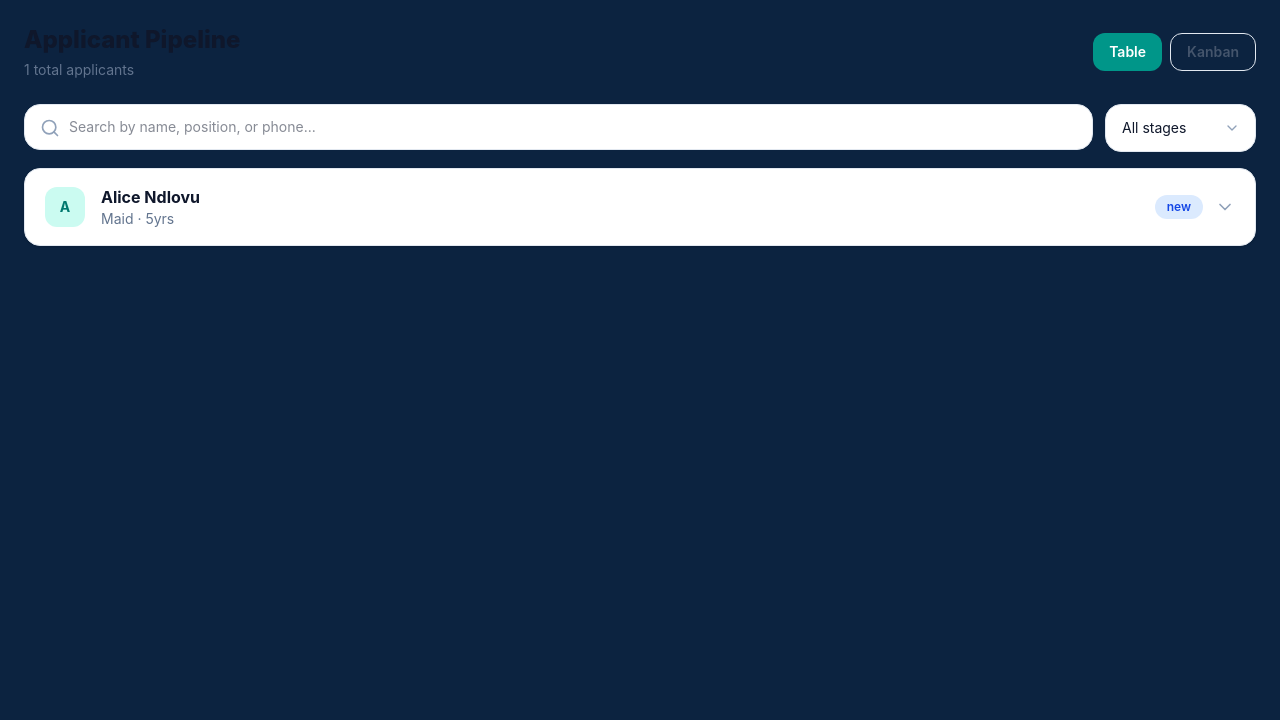
Test: AdminApplicants › expands to show applicant details
Click the text "Alice Ndlovu" at (150, 197), box [101,185,200,209]
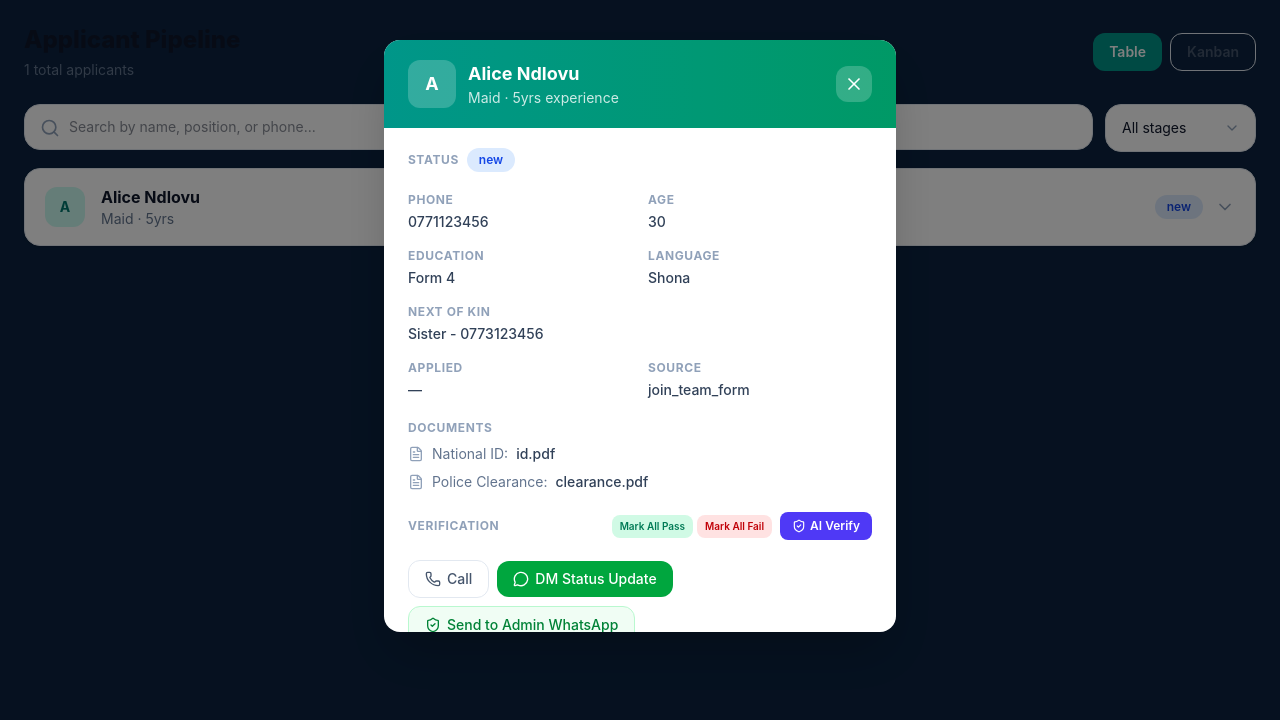
Expected: the text "0771123456" is shown, [408,213,488,230]
Expected: the text "30" is shown, [648,213,666,230]
Expected: the text "Form 4" is shown, [408,269,455,286]
